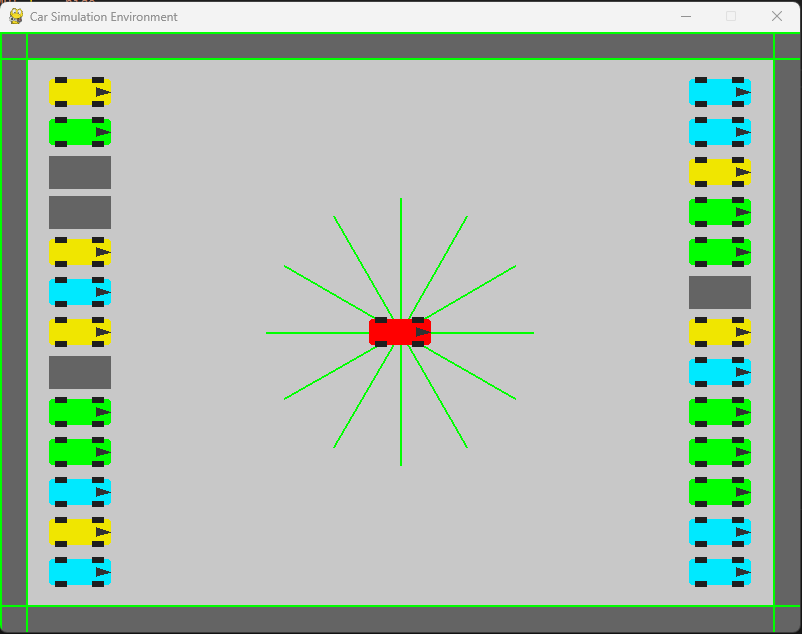ControlledCar: (361, 314, 439, 353)
ParkedCar: (45, 392, 116, 433), (683, 152, 754, 192), (682, 554, 758, 590), (685, 513, 753, 552), (682, 356, 752, 393), (687, 195, 756, 232), (43, 75, 115, 110), (685, 394, 756, 429), (687, 436, 754, 472), (50, 233, 115, 270), (43, 115, 112, 149), (43, 474, 112, 508), (46, 436, 114, 470), (686, 77, 754, 111), (47, 274, 114, 308), (686, 315, 753, 349), (43, 516, 112, 549), (685, 114, 751, 148), (684, 237, 751, 270), (686, 475, 753, 508), (45, 556, 111, 589), (48, 316, 114, 348)
ParkingSpot: (47, 193, 118, 233), (685, 272, 756, 312), (48, 354, 113, 391), (48, 156, 113, 190)
